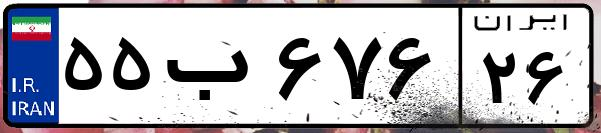2: (475, 38, 525, 113)
5: (57, 26, 110, 100), (110, 28, 158, 98)
6: (270, 28, 330, 110), (385, 28, 445, 110), (525, 38, 570, 115)
7: (330, 28, 385, 110)
ب: (158, 20, 270, 120)
